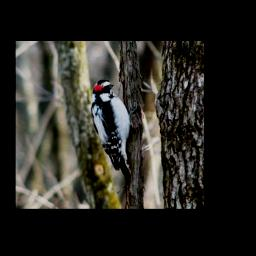Woodpecker: (89, 79, 137, 186)
